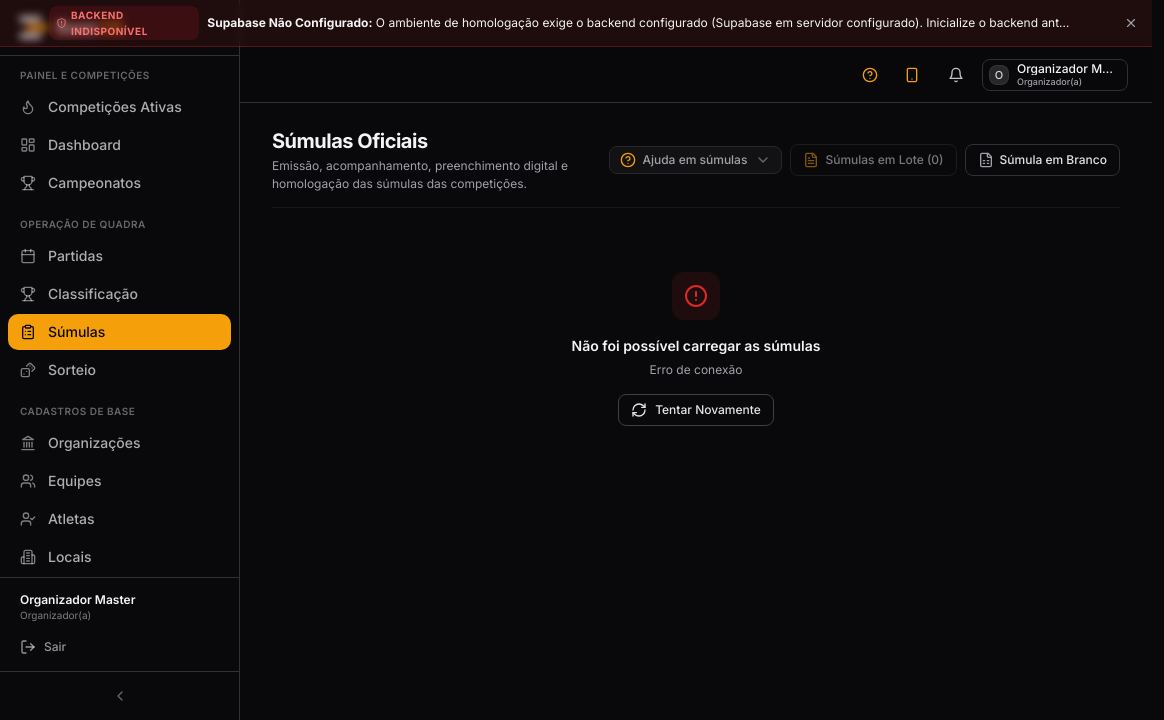
Test: MatchSheetPage Component (Fase 7.2) › Central Geral (/sumulas) › exibe estado de erro com retry quando o carregamento falha
This screenshot has width=1164, height=720.
Check: the message "Não foi possível carregar as súmulas Erro de conexão Tentar Novamente" is shown, box [572,272,820,426]
Check: the text "Não foi possível carregar as súmulas" is shown, box [572,336,820,356]
Click the button "Tentar Novamente" at (696, 410), box [618,394,774,426]
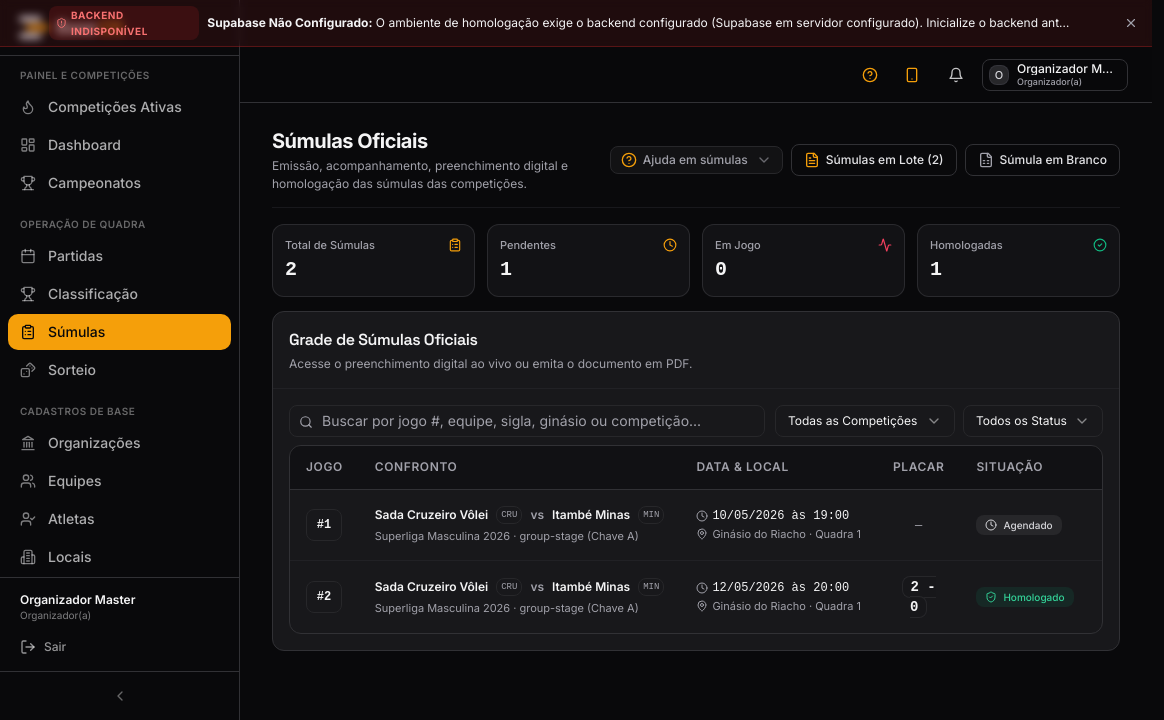
Check: the text "#1" is shown, box [306,509,342,541]
